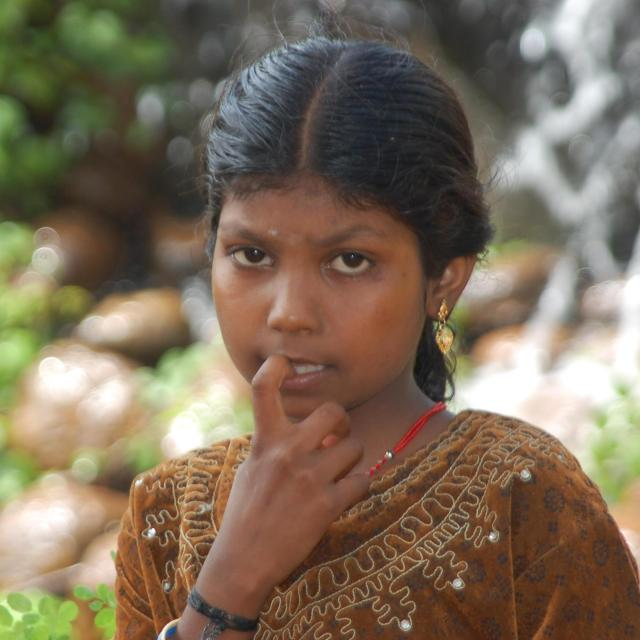no-glass: (214, 242, 380, 276)
